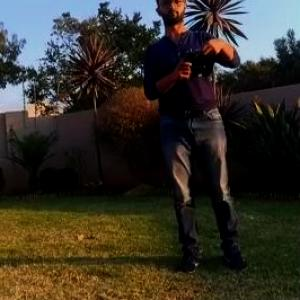follow: (139, 0, 250, 281)
